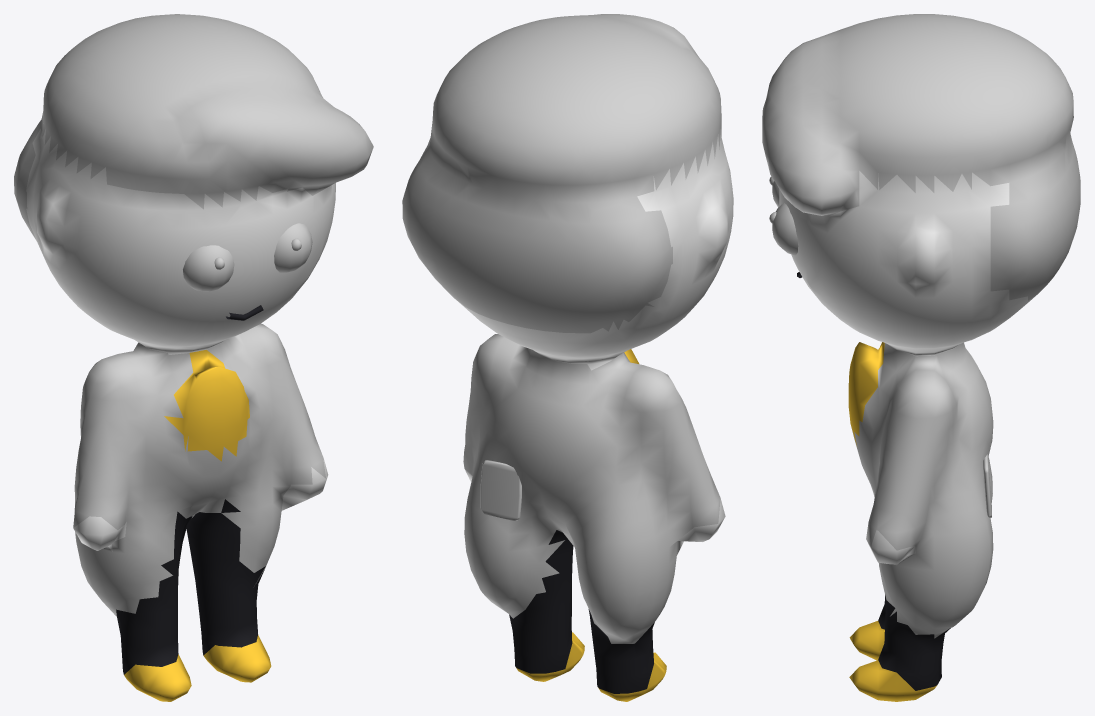
File: idol_boy_g.fbx
The picture shows the model from 3 angles, left to right: view 1: azimuth 30°, elevation 25°; view 2: azimuth 150°, elevation 25°; view 3: azimuth 270°, elevation 25°; orthographic projection. The views are drawn at different scales.
Parts seen in each view (by area): view 1: idol_boy_g; view 2: idol_boy_g; view 3: idol_boy_g.
Part boxes in pixels (x1,y1,x2,y2): idol_boy_g: (14,14,373,701); idol_boy_g: (402,14,733,701); idol_boy_g: (762,14,1080,701).
Bounding box in the file's own units: 0.571 × 1.22 × 0.549.
